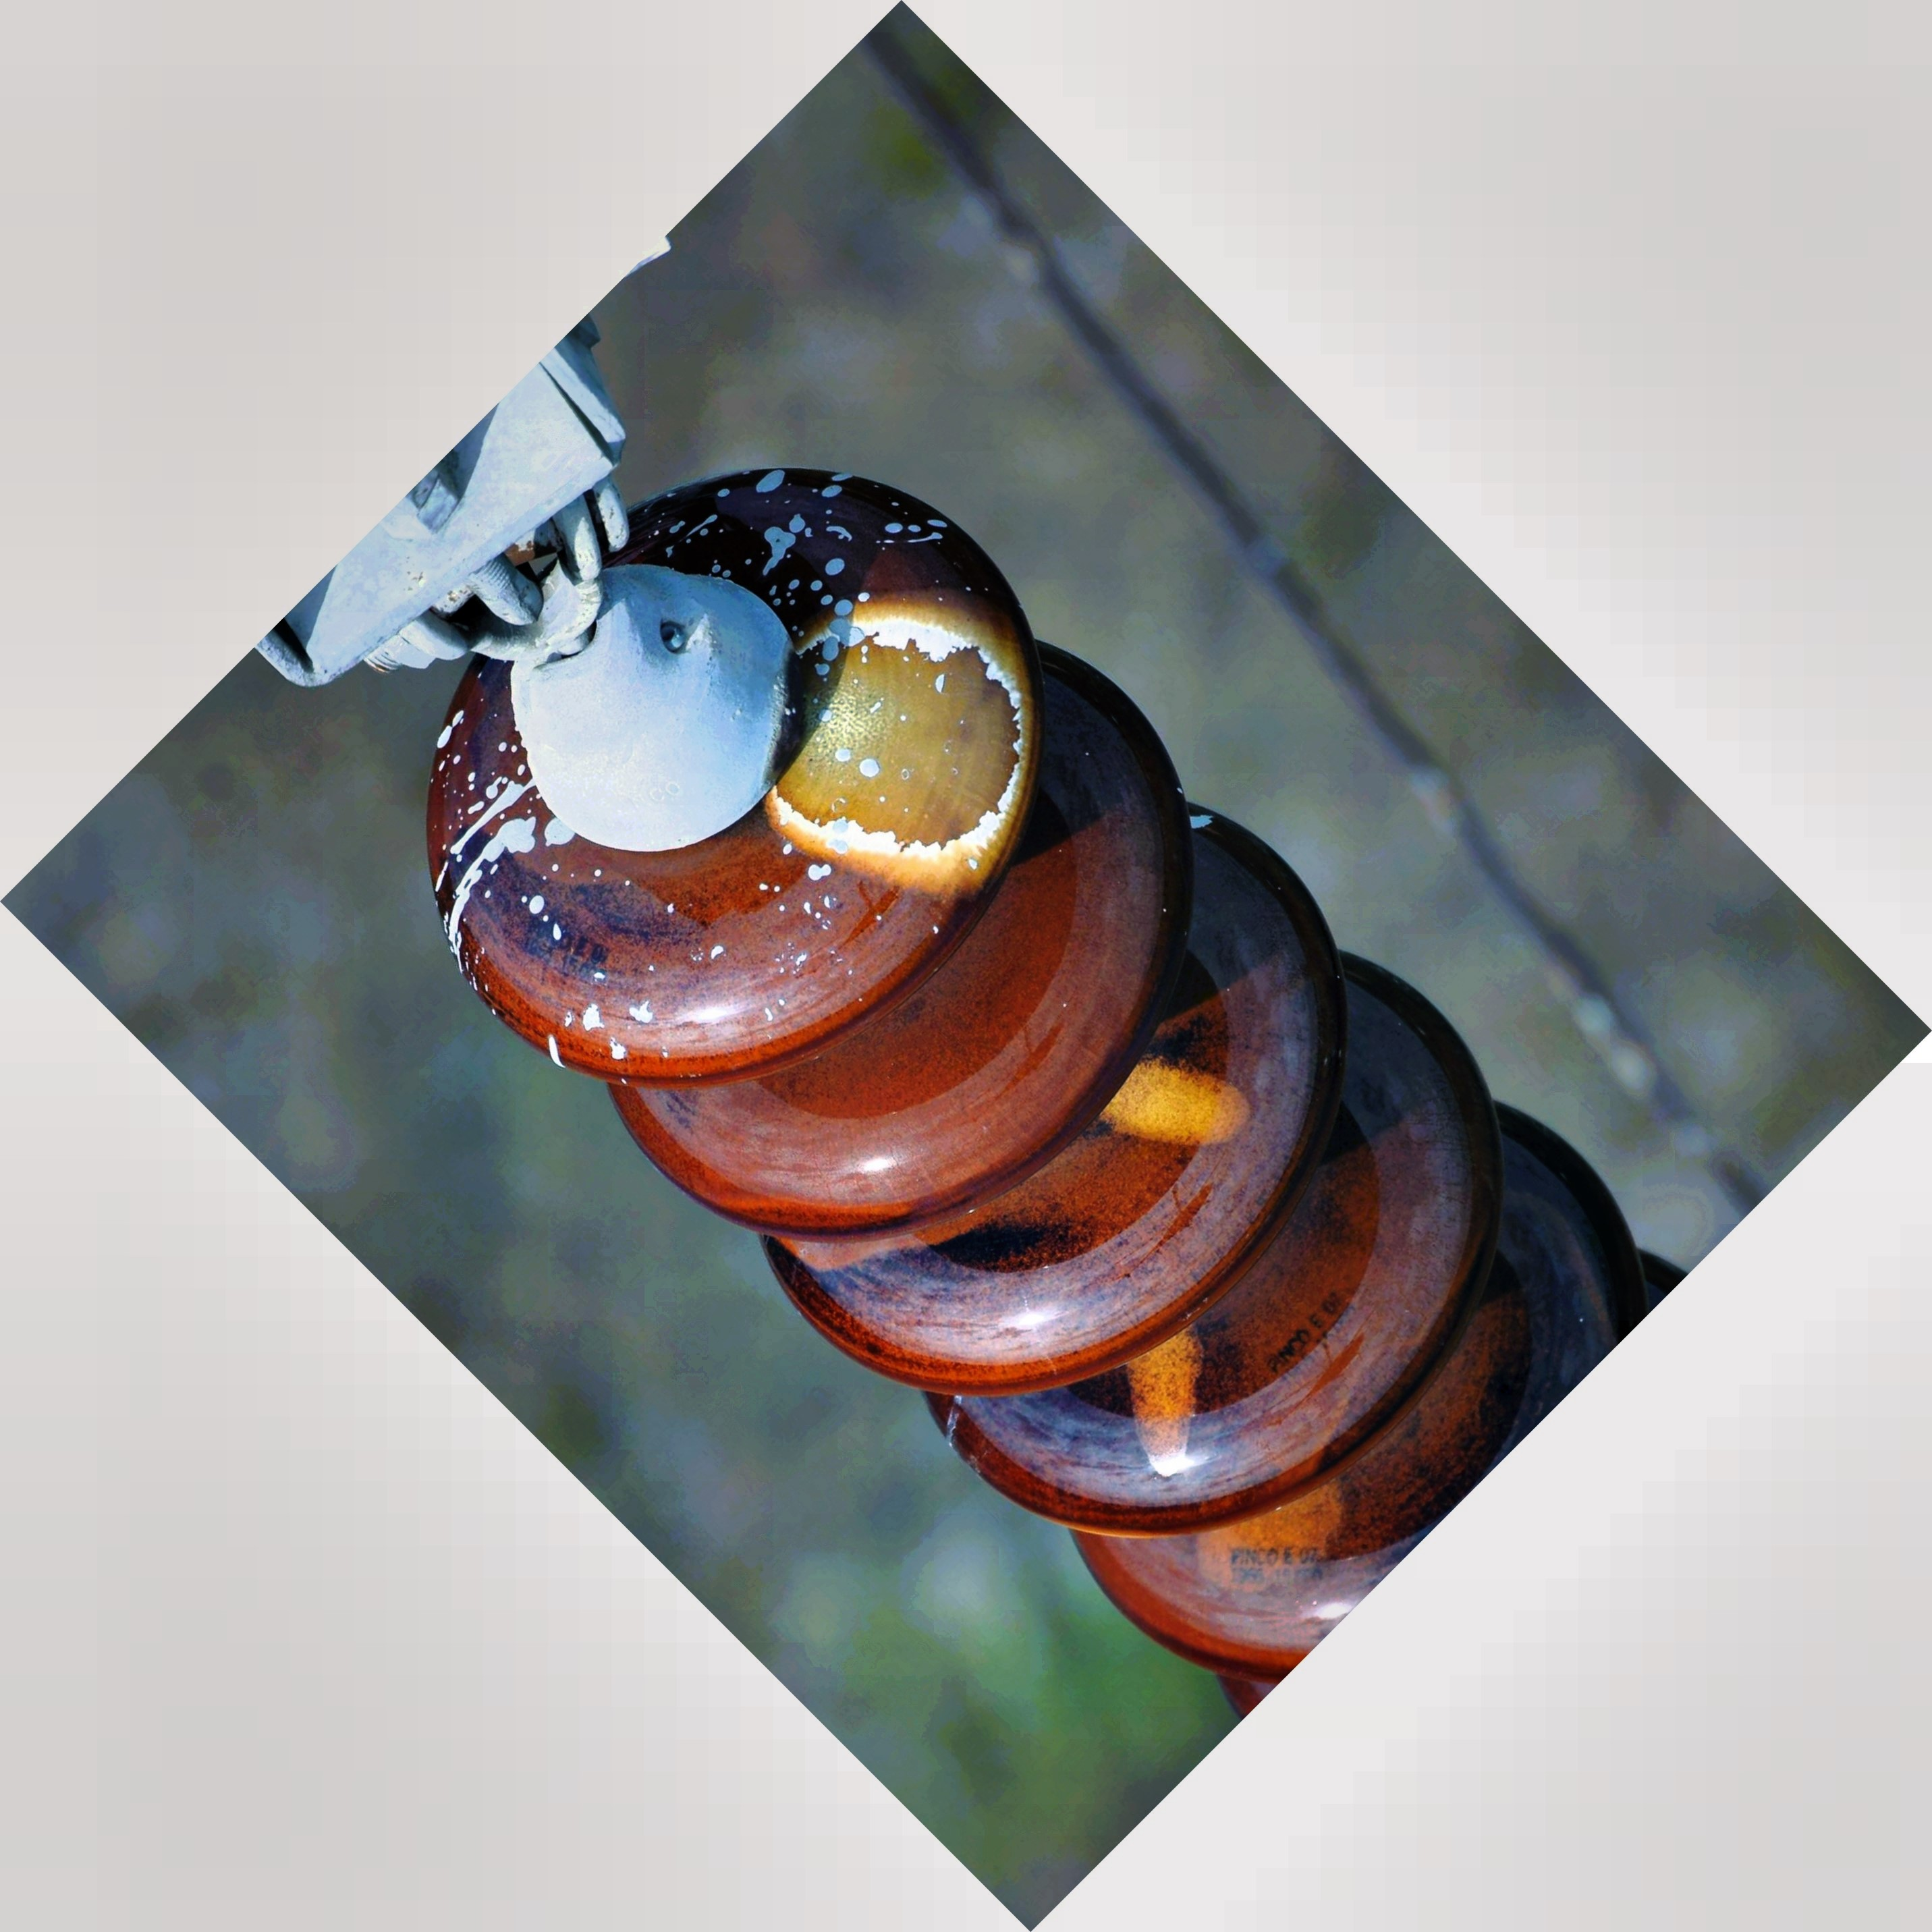Insulator flashover: (357, 400, 1047, 1099)
